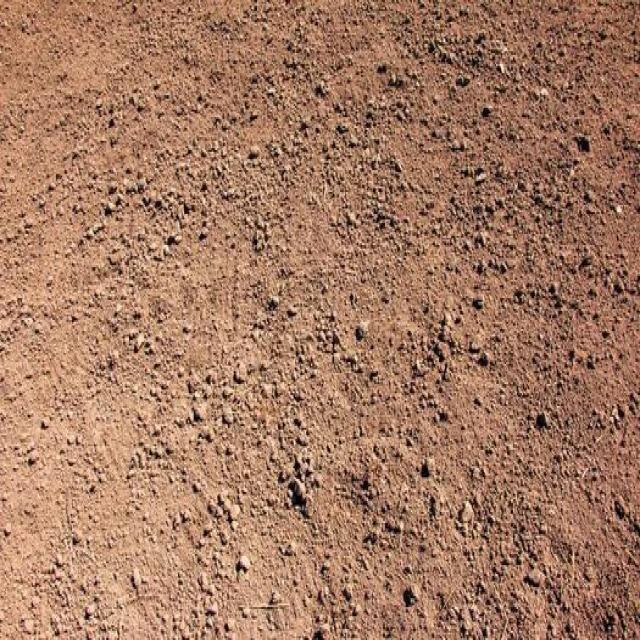suelo_seco: (161, 121, 517, 544)
